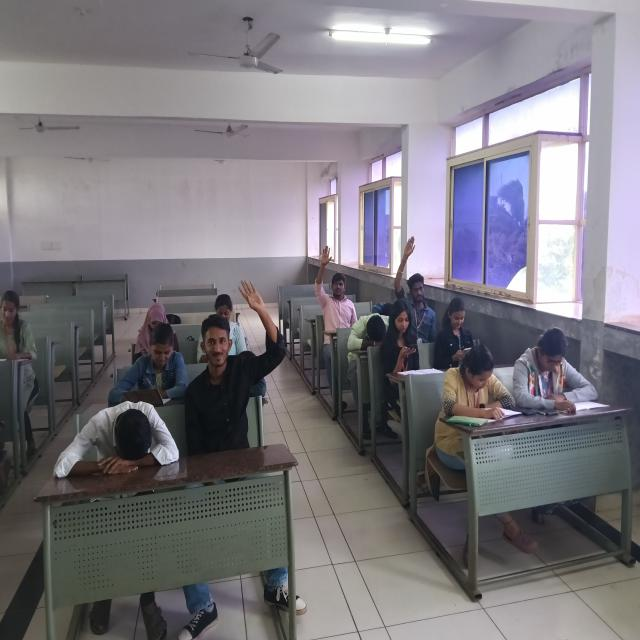Hand Rising: (186, 288, 288, 430), (394, 233, 450, 315), (308, 244, 359, 328)
Reading: (511, 326, 615, 408), (443, 346, 516, 424)
Sleeping: (49, 388, 188, 481), (346, 308, 393, 351), (362, 289, 409, 317)
Using Phone: (435, 303, 486, 357), (388, 308, 427, 366)
Writing: (112, 331, 195, 406)
